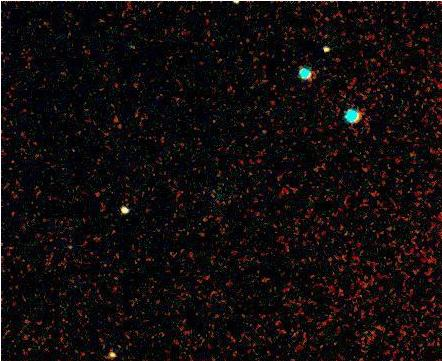star: (109, 195, 139, 225)
